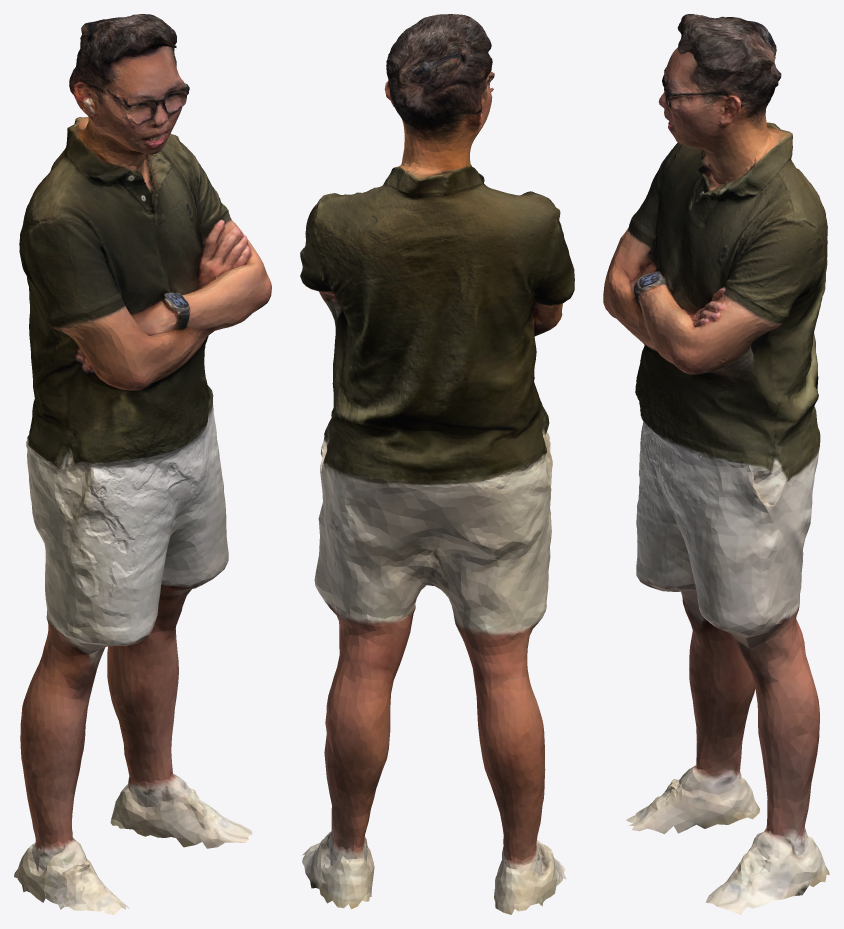
File: avatar.glb
3 views of the same model, side by side, from view 1: azimuth 30°, elevation 25°; view 2: azimuth 150°, elevation 25°; view 3: azimuth 270°, elevation 25° (orthographic). The views are drawn at different scales.
Bounding box in the file's own units: 0.3364 × 1.15 × 0.2821.
Materials: 1 (1 with a texture image).
